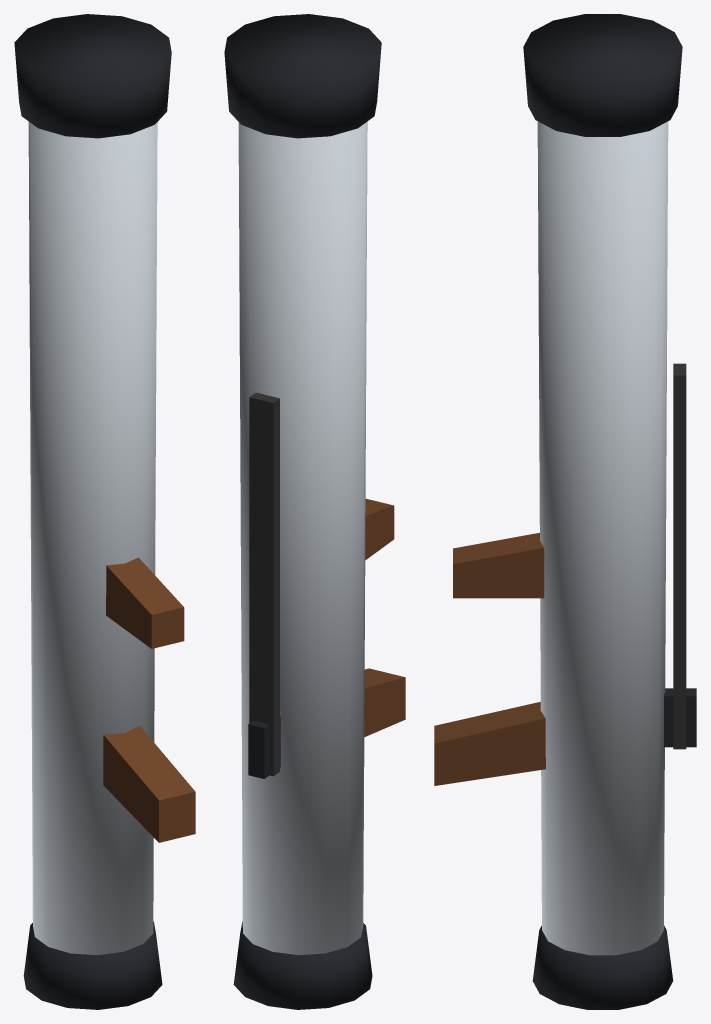
The model's file is snowman_cannon.glb.
The picture shows the model from 3 angles, left to right: view 1: azimuth 30°, elevation 25°; view 2: azimuth 150°, elevation 25°; view 3: azimuth 270°, elevation 25°; orthographic projection.
Visible parts, largest first — view 1: snowman_cannon_v0; view 2: snowman_cannon_v0; view 3: snowman_cannon_v0.
Part boxes in pixels (x1=…): snowman_cannon_v0: x1=14, y1=14, x2=195, y2=1009; snowman_cannon_v0: x1=224, y1=14, x2=405, y2=1009; snowman_cannon_v0: x1=434, y1=14, x2=696, y2=1009.
Bounding box in the file's own units: 0.1657 × 1.1 × 0.28.
